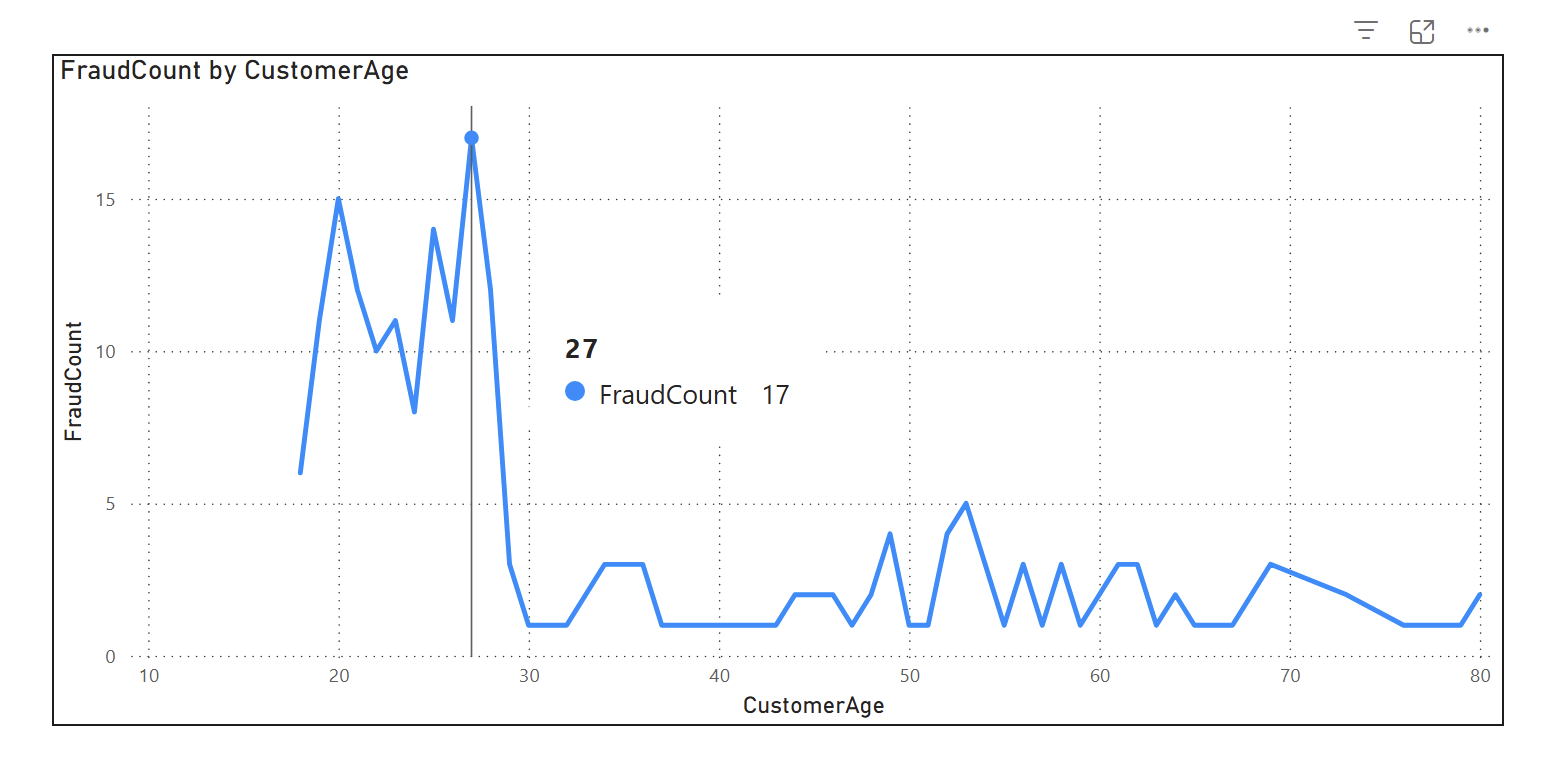

The page's visual inventory and layout, read from the dashboard file:
{"tool":"powerbi","page":{"name":"Page 3","canvas":[1280,720],"ordinal":3},"visuals":[{"type":"lineChart","fields":{"Category":["Online Banking Scam.CustomerAge"],"Y":["Online Banking Scam.FraudCount"]},"box":[0,0,899,415.5],"z":0}]}

Visuals, with their boxes on the page's 1280x720 design canvas (x1, y1, x2, y2). These are canvas units, not pixel positions in the 1556x774 screenshot, which may show the page scaled, cropped or inside an application window:
lineChart - Online Banking Scam.CustomerAge x Online Banking Scam.FraudCount: 0/0/899/416
